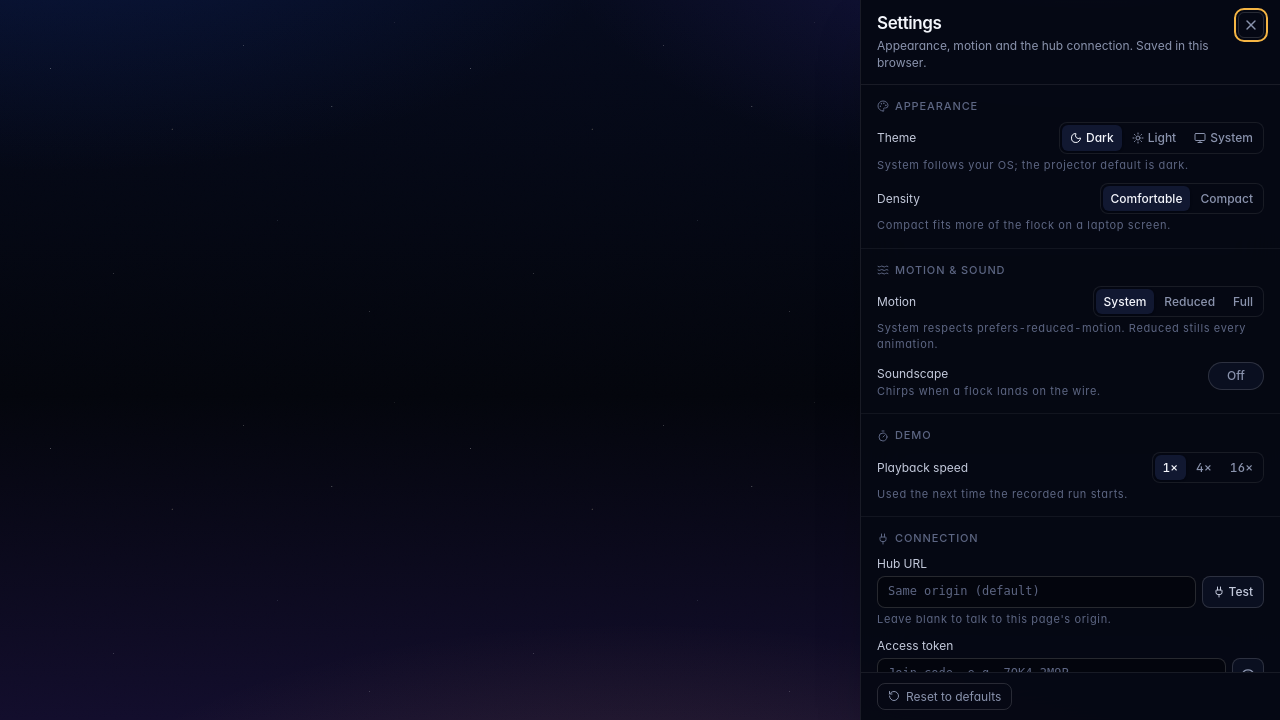
Test: SettingsDrawer › Test reports a failed hub without throwing
The width and height of the screenshot is (1280, 720).
In the field labelled "Hub URL": coordinates (1036, 592) [877, 576, 1196, 608], type "http://hub:7777"
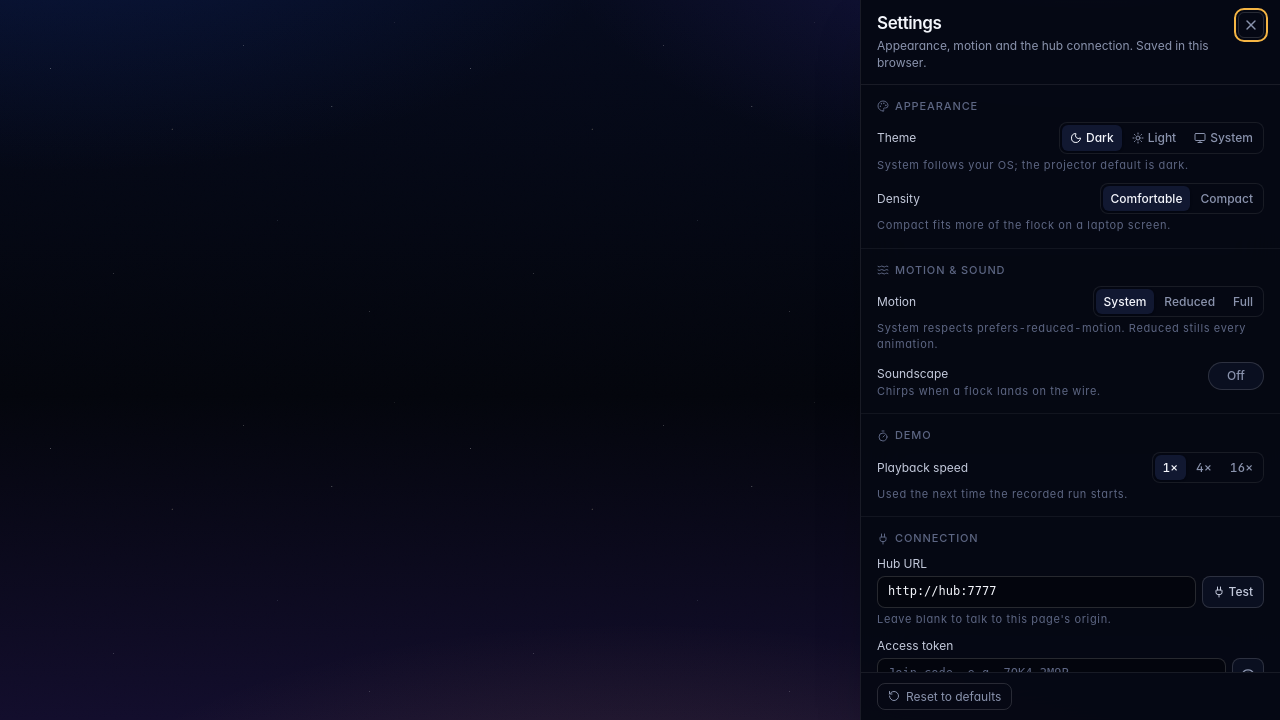
Click the button "Test": coordinates (1233, 592) [1202, 576, 1264, 608]
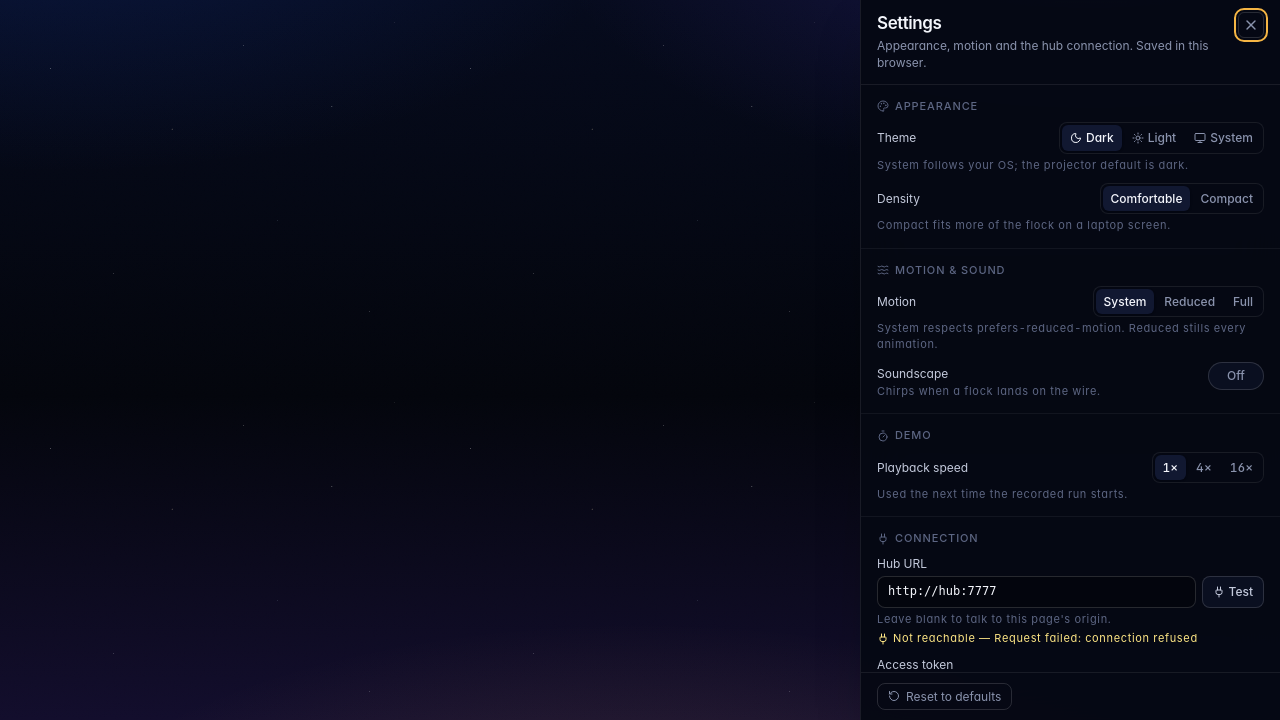
Result: the message with test id "health-status" shows "Not reachable" at [893, 631, 976, 645]
